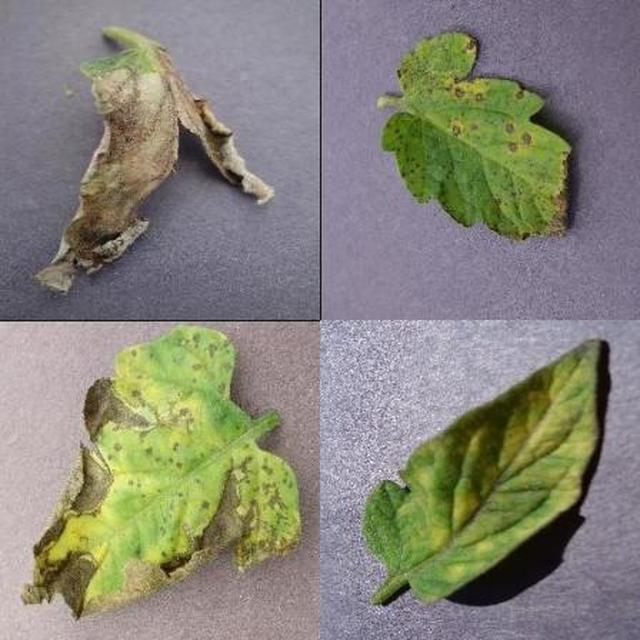Late Blight Leaf: (219, 198, 640, 640)
